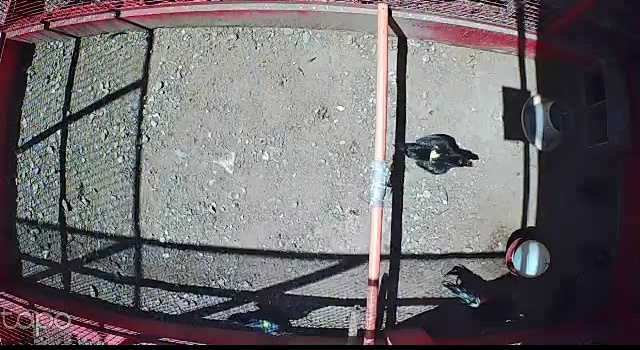Chicken: (392, 131, 475, 175)
Rooster: (443, 277, 527, 328)
Saddle_Color_Yellow: (428, 147, 444, 164)
